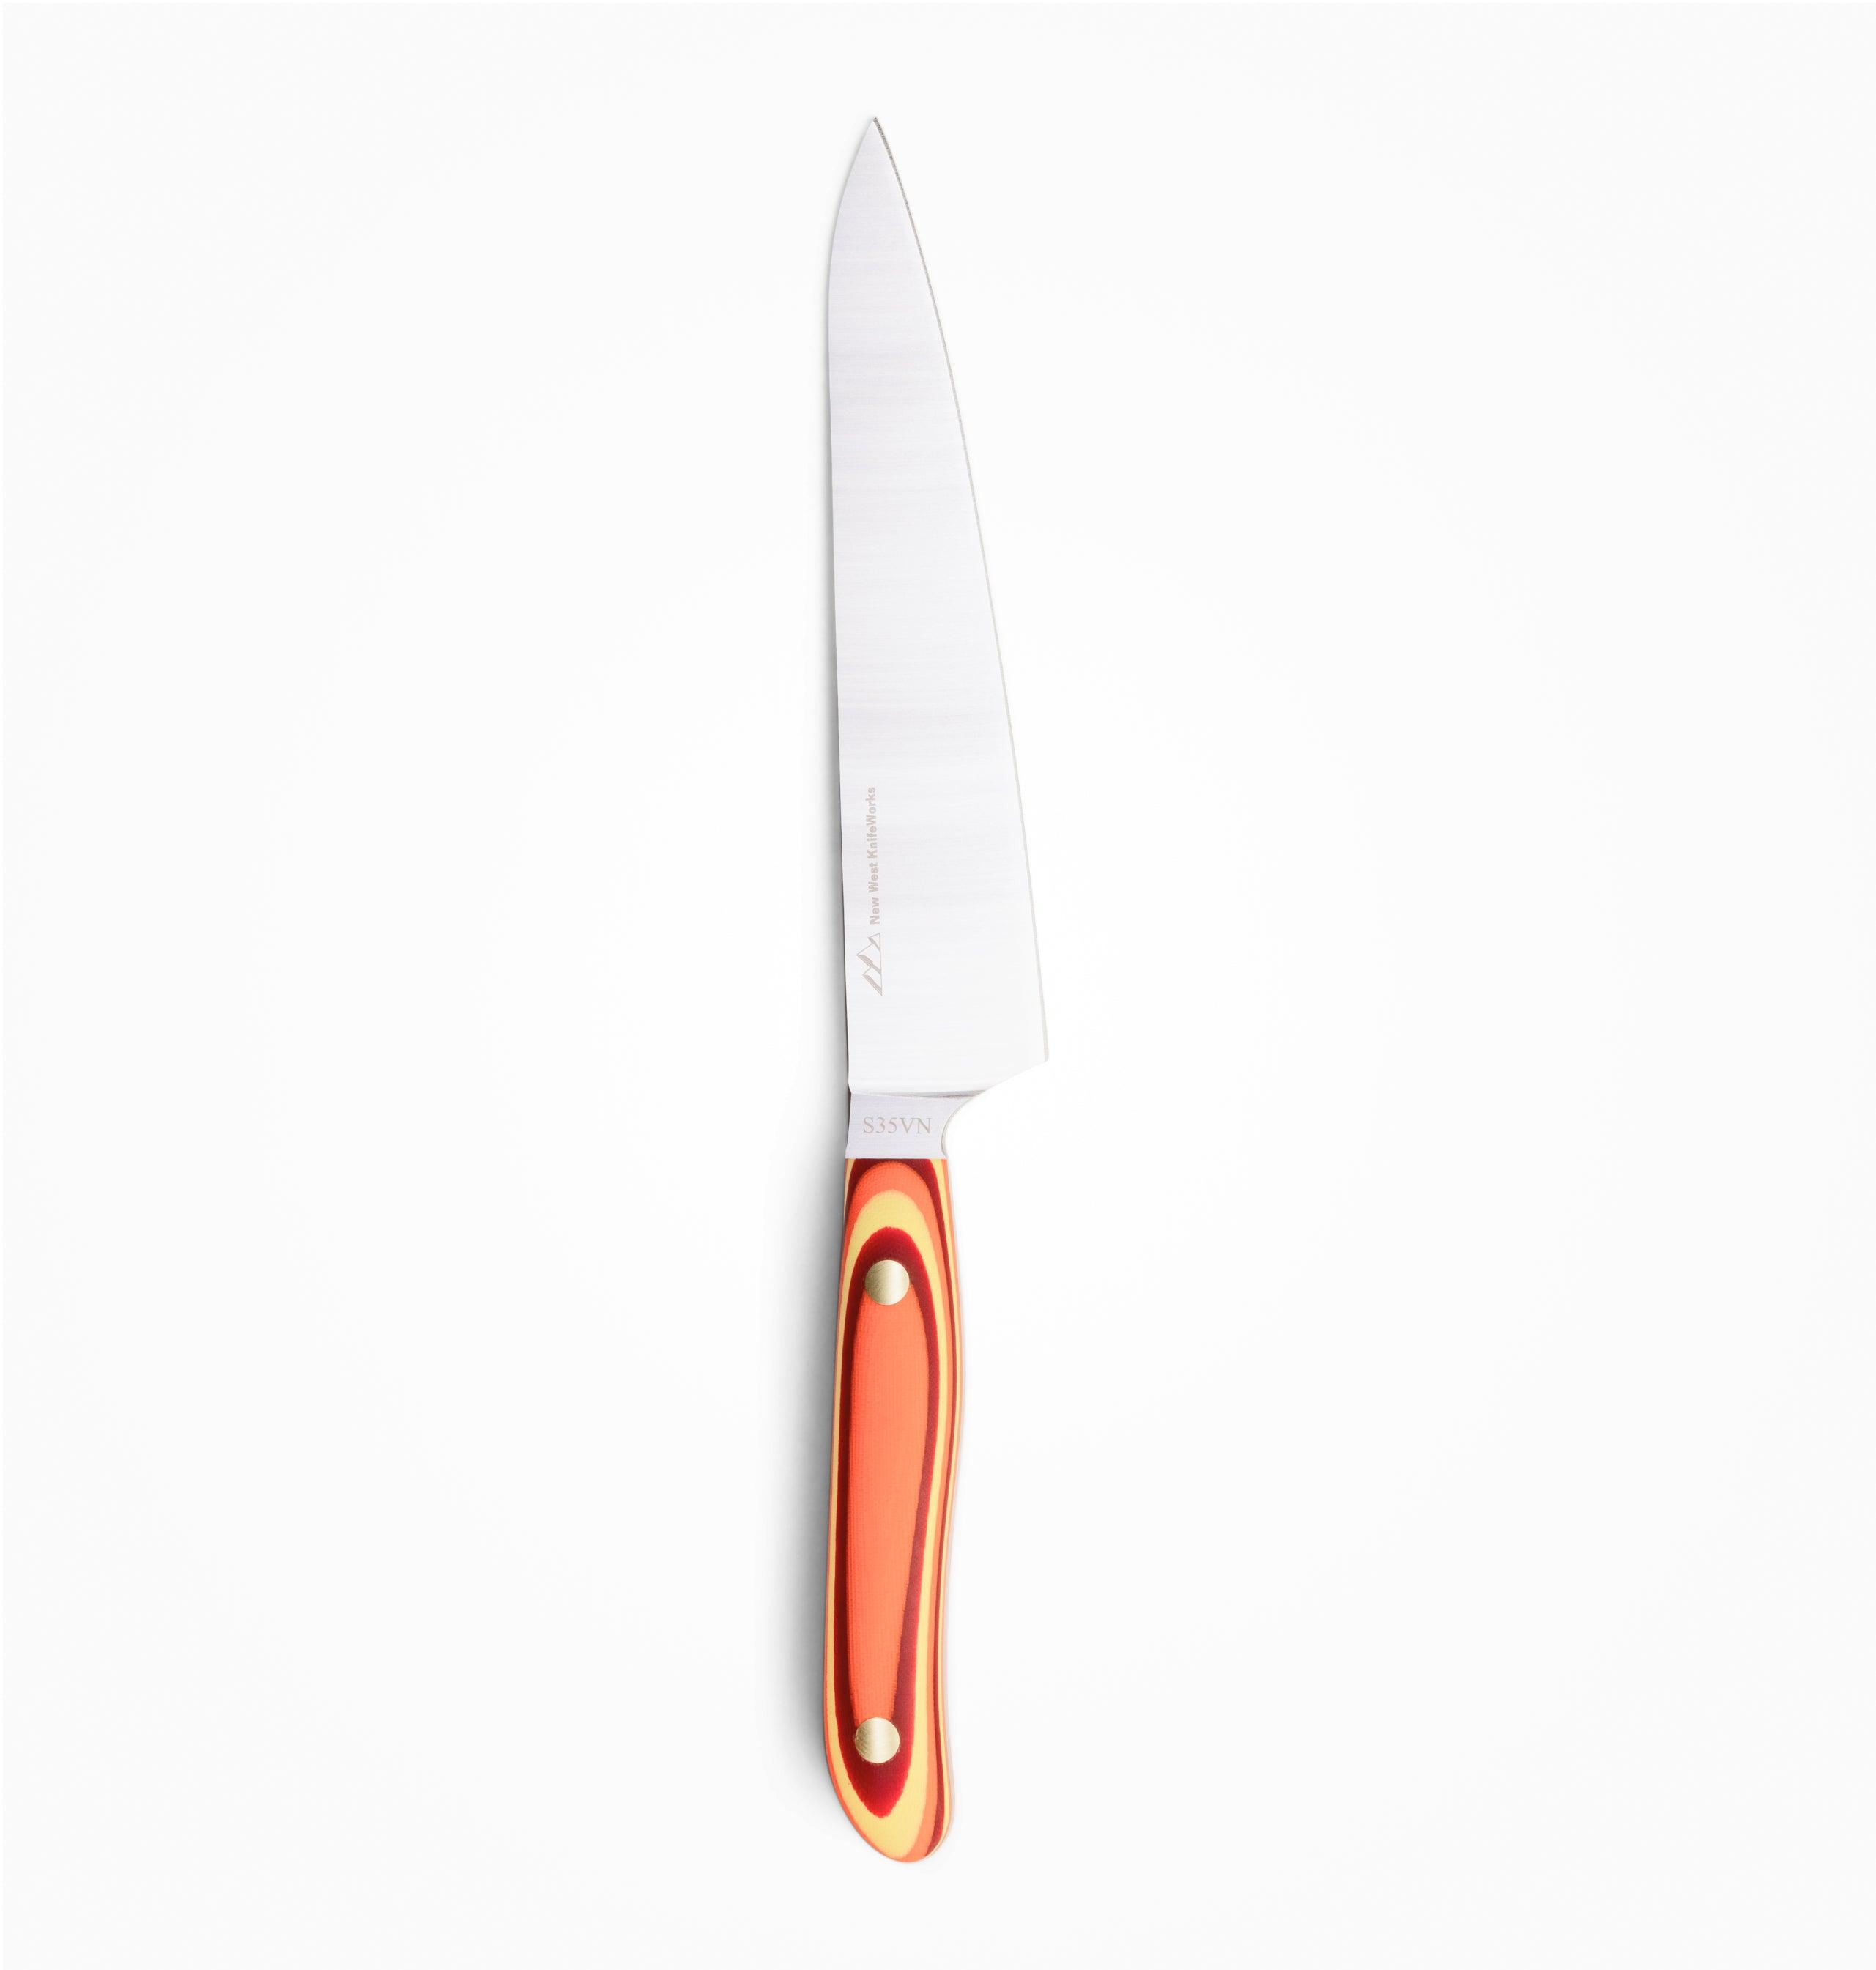Knife: (818, 114, 1050, 1861)
